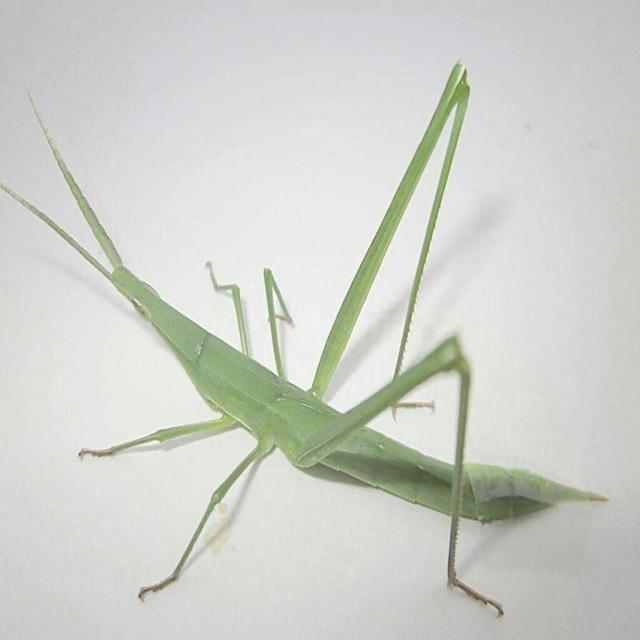ZhaMeng: (48, 58, 590, 590)
